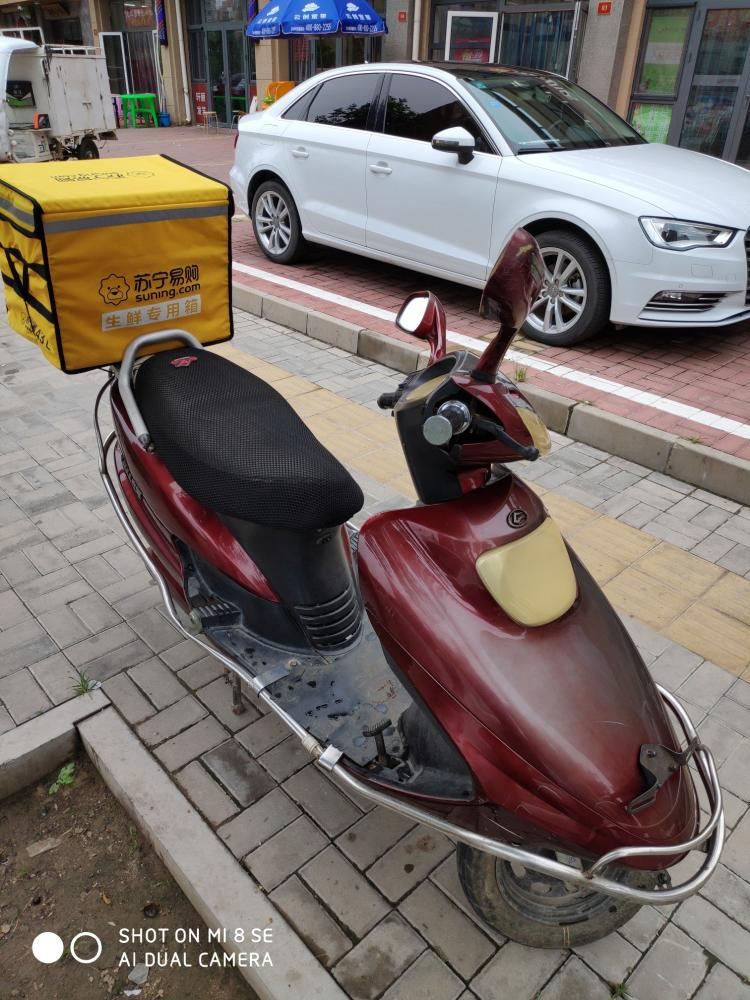电动车: (3, 138, 740, 957)
